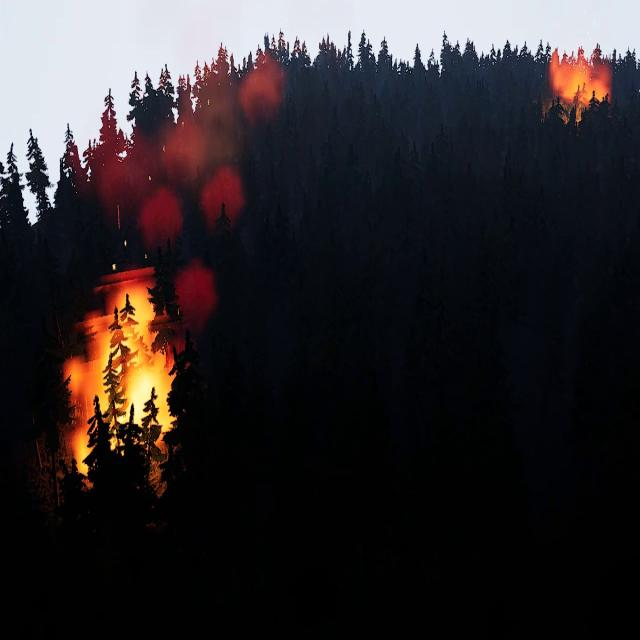fire: (64, 273, 182, 472), (550, 52, 611, 120)
smoke: (91, 39, 282, 294), (239, 35, 286, 127), (173, 258, 219, 344), (199, 165, 243, 229)
